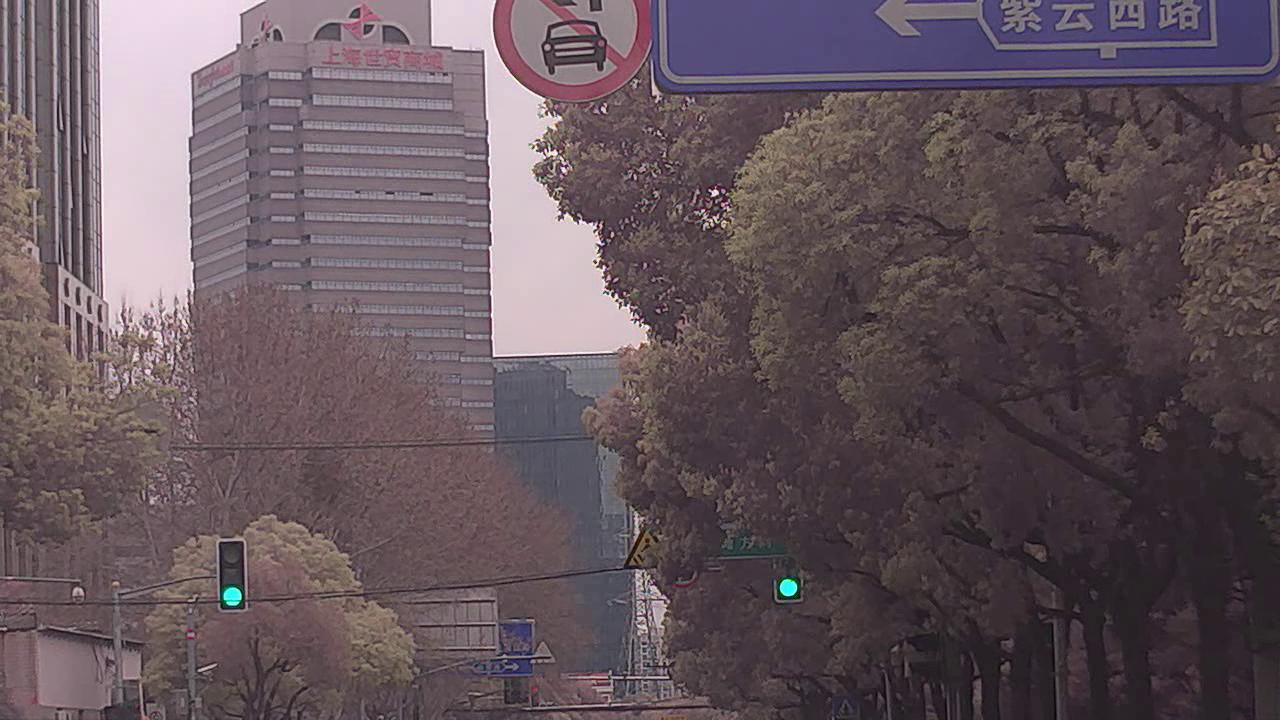traffic_light: (216, 537, 250, 610)
